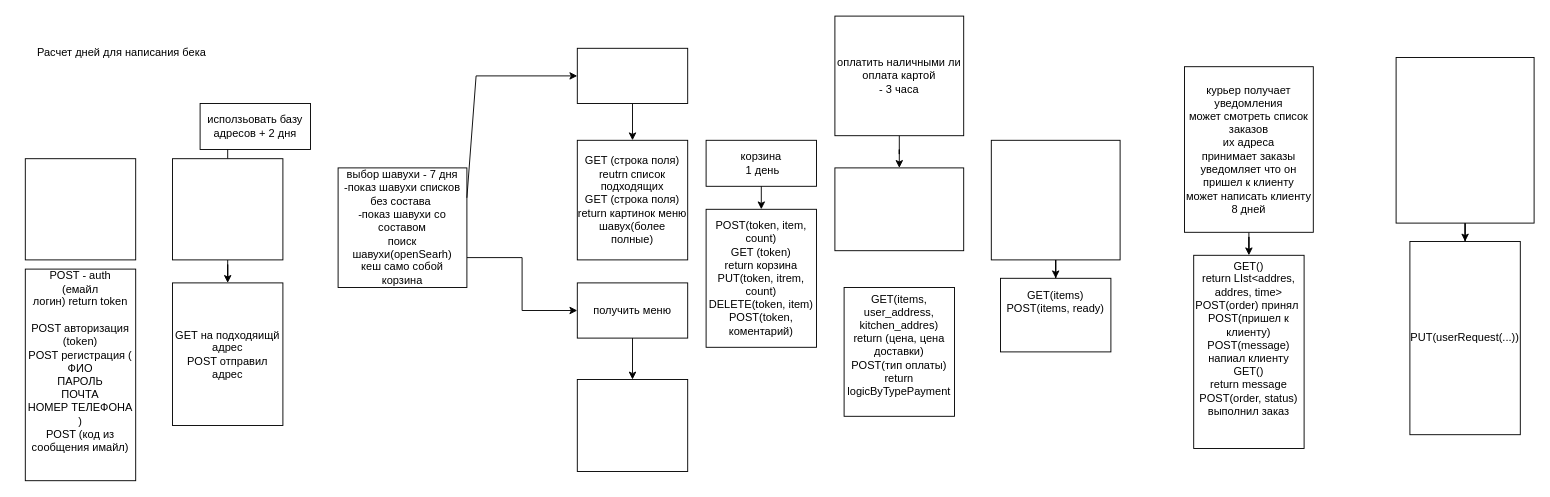
The diagram is 1550 pixels wide and 497 high, and some of its shapes have lost their labels. Here are the shapes that lost their labels. From the top down, the centre of each, then its label:
(632,75): Поиск шавухи
(1464,140): редактиование профиля 1 день
(80,209): регистрация - 2 день (подключение почты) (jwt токен)
(227,209): ввод адреса 1 день
(899,209): реальная оплата + 2 дня
(1055,199): предприятие получает заказ и жмакает что сделала его - 1 день
(632,425): GET (список) return меню GET (список с составом) return меню...
